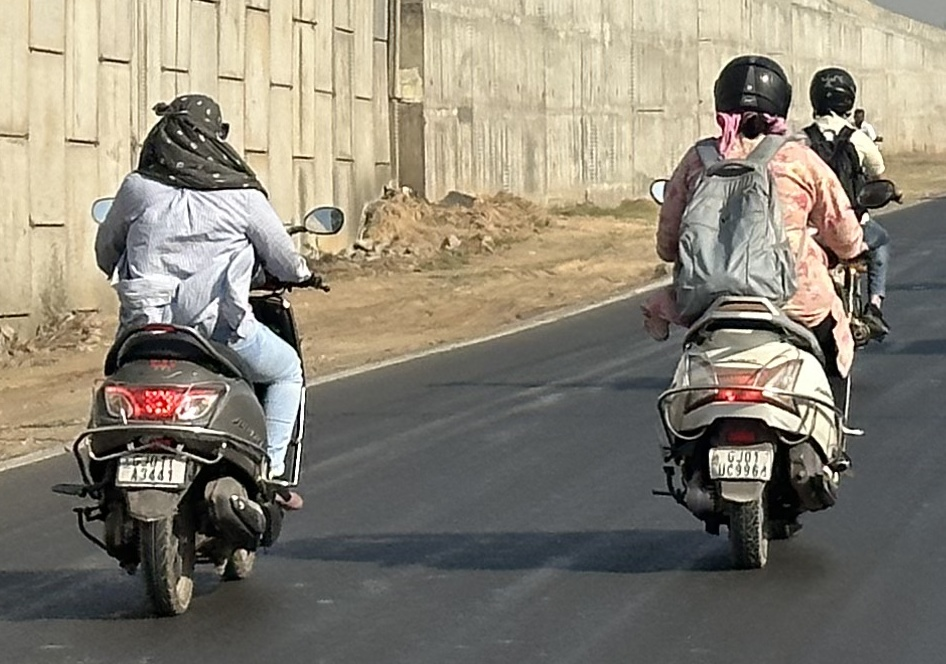BikeWithRider: (42, 87, 352, 624), (630, 47, 908, 580), (782, 61, 907, 371)
Helmet: (705, 48, 799, 141)
NoHelmet: (155, 88, 235, 152), (802, 61, 864, 126)
